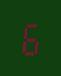six: (19, 19, 39, 56)
